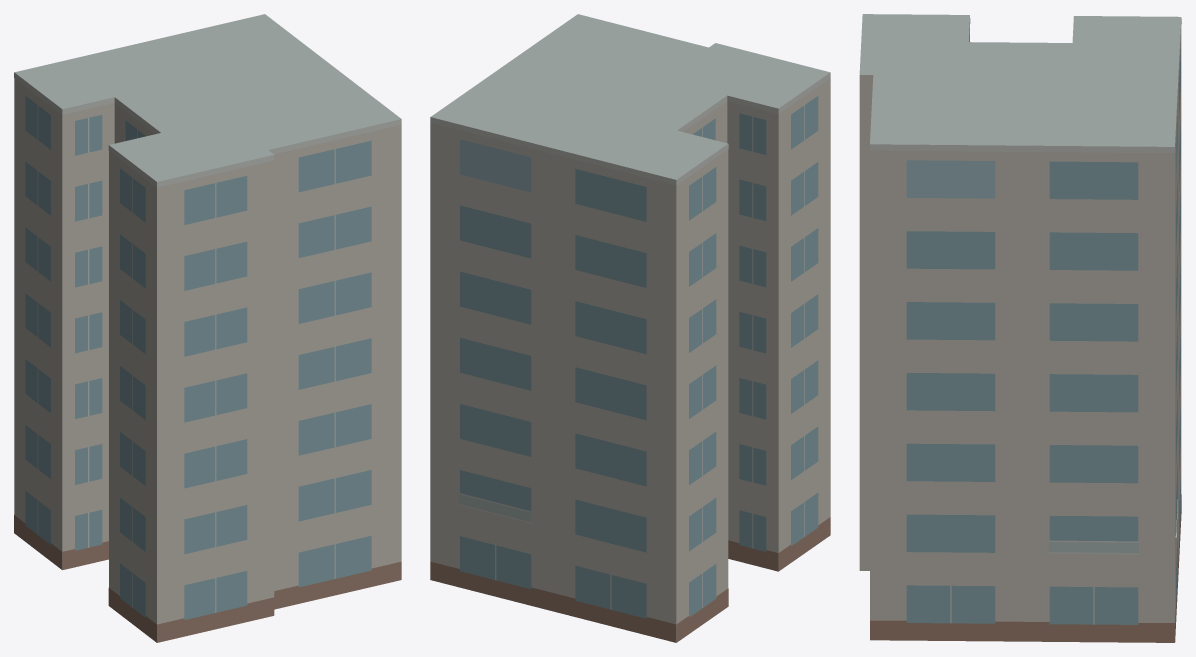
The model's file is survey-upis-32638085.glb.
3 renders of one model, left to right at view 1: azimuth 30°, elevation 25°; view 2: azimuth 150°, elevation 25°; view 3: azimuth 270°, elevation 25°, orthographic. The views are drawn at different scales.
Visible parts, largest first — view 1: survey-upis-32638085.tmp; view 2: survey-upis-32638085.tmp; view 3: survey-upis-32638085.tmp.
Boxes of the visible parts, bbox=[...] form: survey-upis-32638085.tmp: bbox=[14, 14, 401, 642]; survey-upis-32638085.tmp: bbox=[430, 14, 830, 642]; survey-upis-32638085.tmp: bbox=[859, 14, 1181, 642].
Size of the model in its own units: 11.51 by 20 by 11.77.
